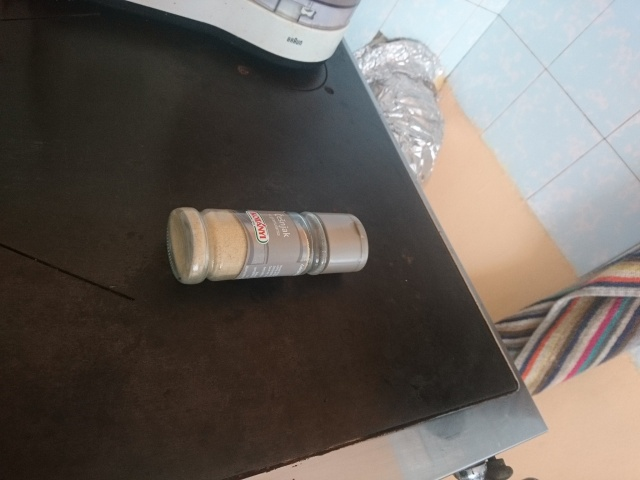Kotanyi Garlic Granules 70g: (163, 204, 371, 288)
